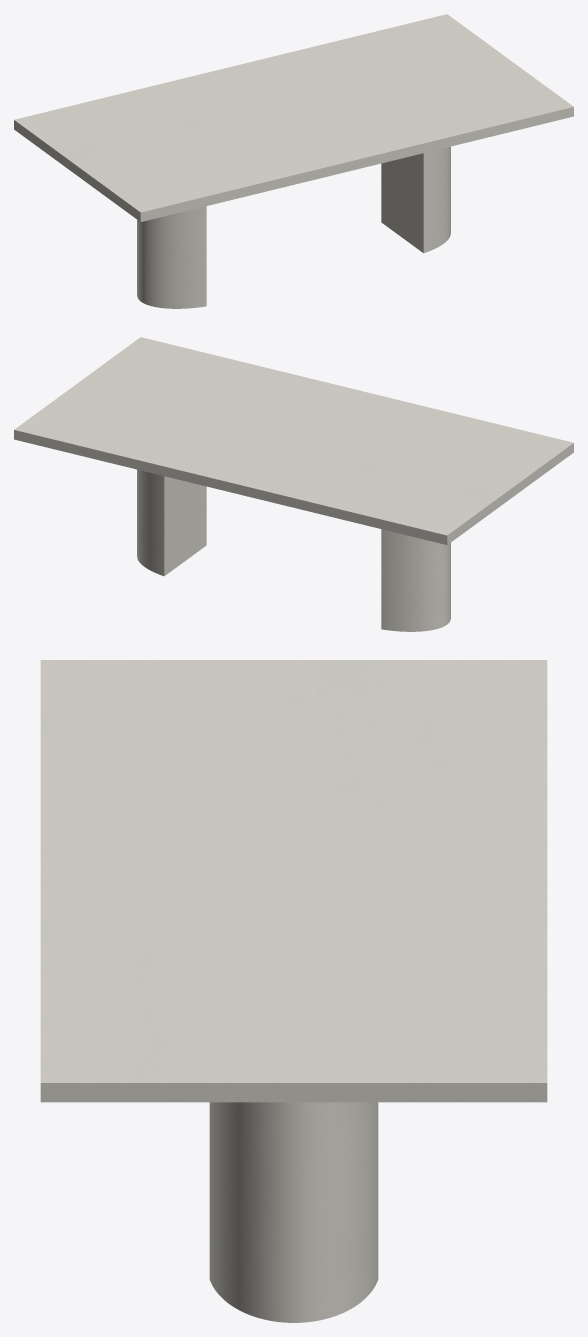
Rendered from pale_recta_standard_hillside.glb.
3 views of the same model, one above another, from view 1: azimuth 30°, elevation 25°; view 2: azimuth 150°, elevation 25°; view 3: azimuth 270°, elevation 25° (orthographic). The views are drawn at different scales.
Parts seen in each view (by area): view 1: standard_recta, hillside; view 2: standard_recta, hillside; view 3: standard_recta, hillside.
Boxes of the visible parts, x1=… form: standard_recta: x1=14, y1=14, x2=573, y2=221; hillside: x1=137, y1=146, x2=450, y2=308; standard_recta: x1=14, y1=337, x2=573, y2=544; hillside: x1=137, y1=469, x2=450, y2=631; standard_recta: x1=40, y1=660, x2=547, y2=1102; hillside: x1=209, y1=1102, x2=378, y2=1322.
Size of the model in its own units: 7.5 by 2.5 by 3.8.
1 material, 1 textured.
